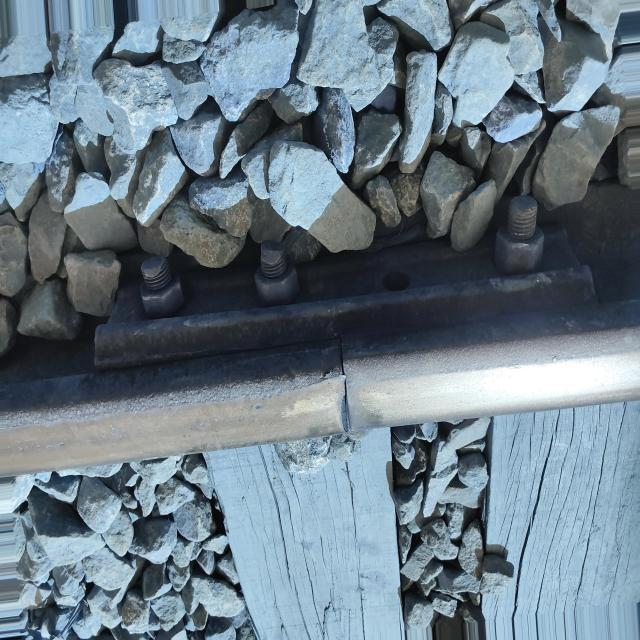Defective Joint: (78, 201, 612, 372)
